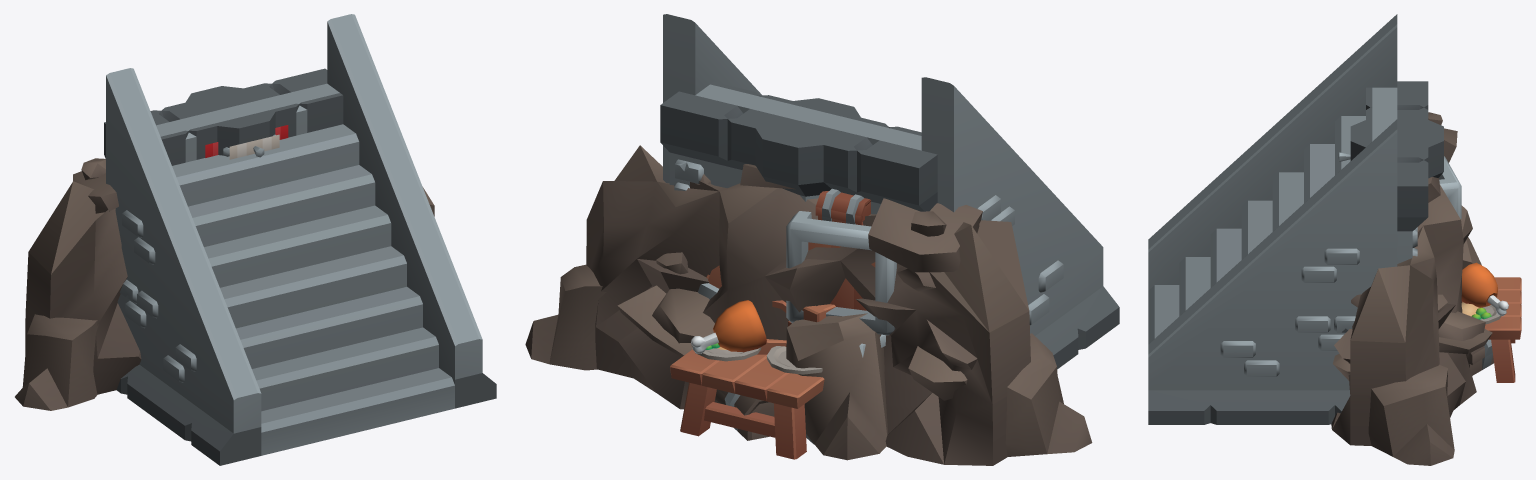
File: dungeon.glb
3 views of the same model, side by side, from view 1: azimuth 30°, elevation 25°; view 2: azimuth 150°, elevation 25°; view 3: azimuth 270°, elevation 25° (orthographic). The views are drawn at different scales.
Visible parts, largest first — view 1: stairs, rubble_large, wall_arched, pillar_decorated; view 2: rubble_large, stairs, wall_arched, table_long_decorated_A, box_stacked, pillar_decorated, crates_stacked; view 3: stairs, rubble_large, wall_arched, table_long_decorated_A, pillar_decorated, box_stacked.
Boxes of the visible parts, left/top/right/bottom form: stairs: left=106, top=14, right=496, bottom=465; rubble_large: left=15, top=158, right=434, bottom=410; wall_arched: left=104, top=68, right=343, bottom=165; pillar_decorated: left=185, top=86, right=279, bottom=159; rubble_large: left=525, top=145, right=1092, bottom=465; stairs: left=663, top=14, right=1119, bottom=368; wall_arched: left=660, top=82, right=937, bottom=214; table_long_decorated_A: left=670, top=300, right=824, bottom=459; box_stacked: left=698, top=188, right=896, bottom=440; pillar_decorated: left=755, top=98, right=860, bottom=201; crates_stacked: left=757, top=304, right=835, bottom=354; stairs: left=1148, top=14, right=1397, bottom=424; rubble_large: left=1331, top=112, right=1492, bottom=465; wall_arched: left=1366, top=81, right=1428, bottom=263; table_long_decorated_A: left=1461, top=262, right=1521, bottom=382; pillar_decorated: left=1337, top=120, right=1443, bottom=178; box_stacked: left=1439, top=156, right=1493, bottom=375.
Size of the model in its own units: 8.13 by 5.91 by 6.
1 material, 1 textured.
